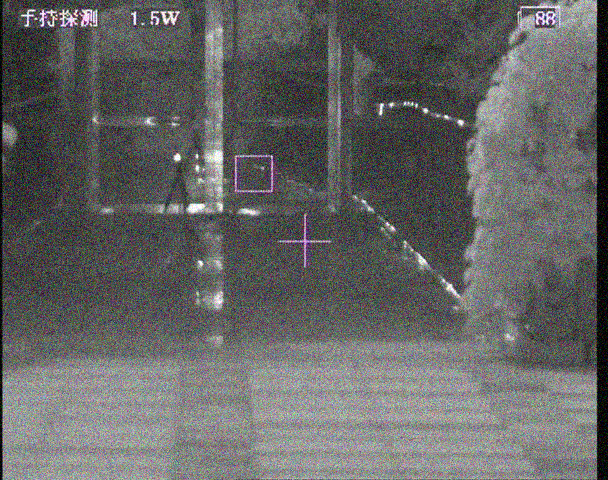my: (172, 152, 183, 162)
